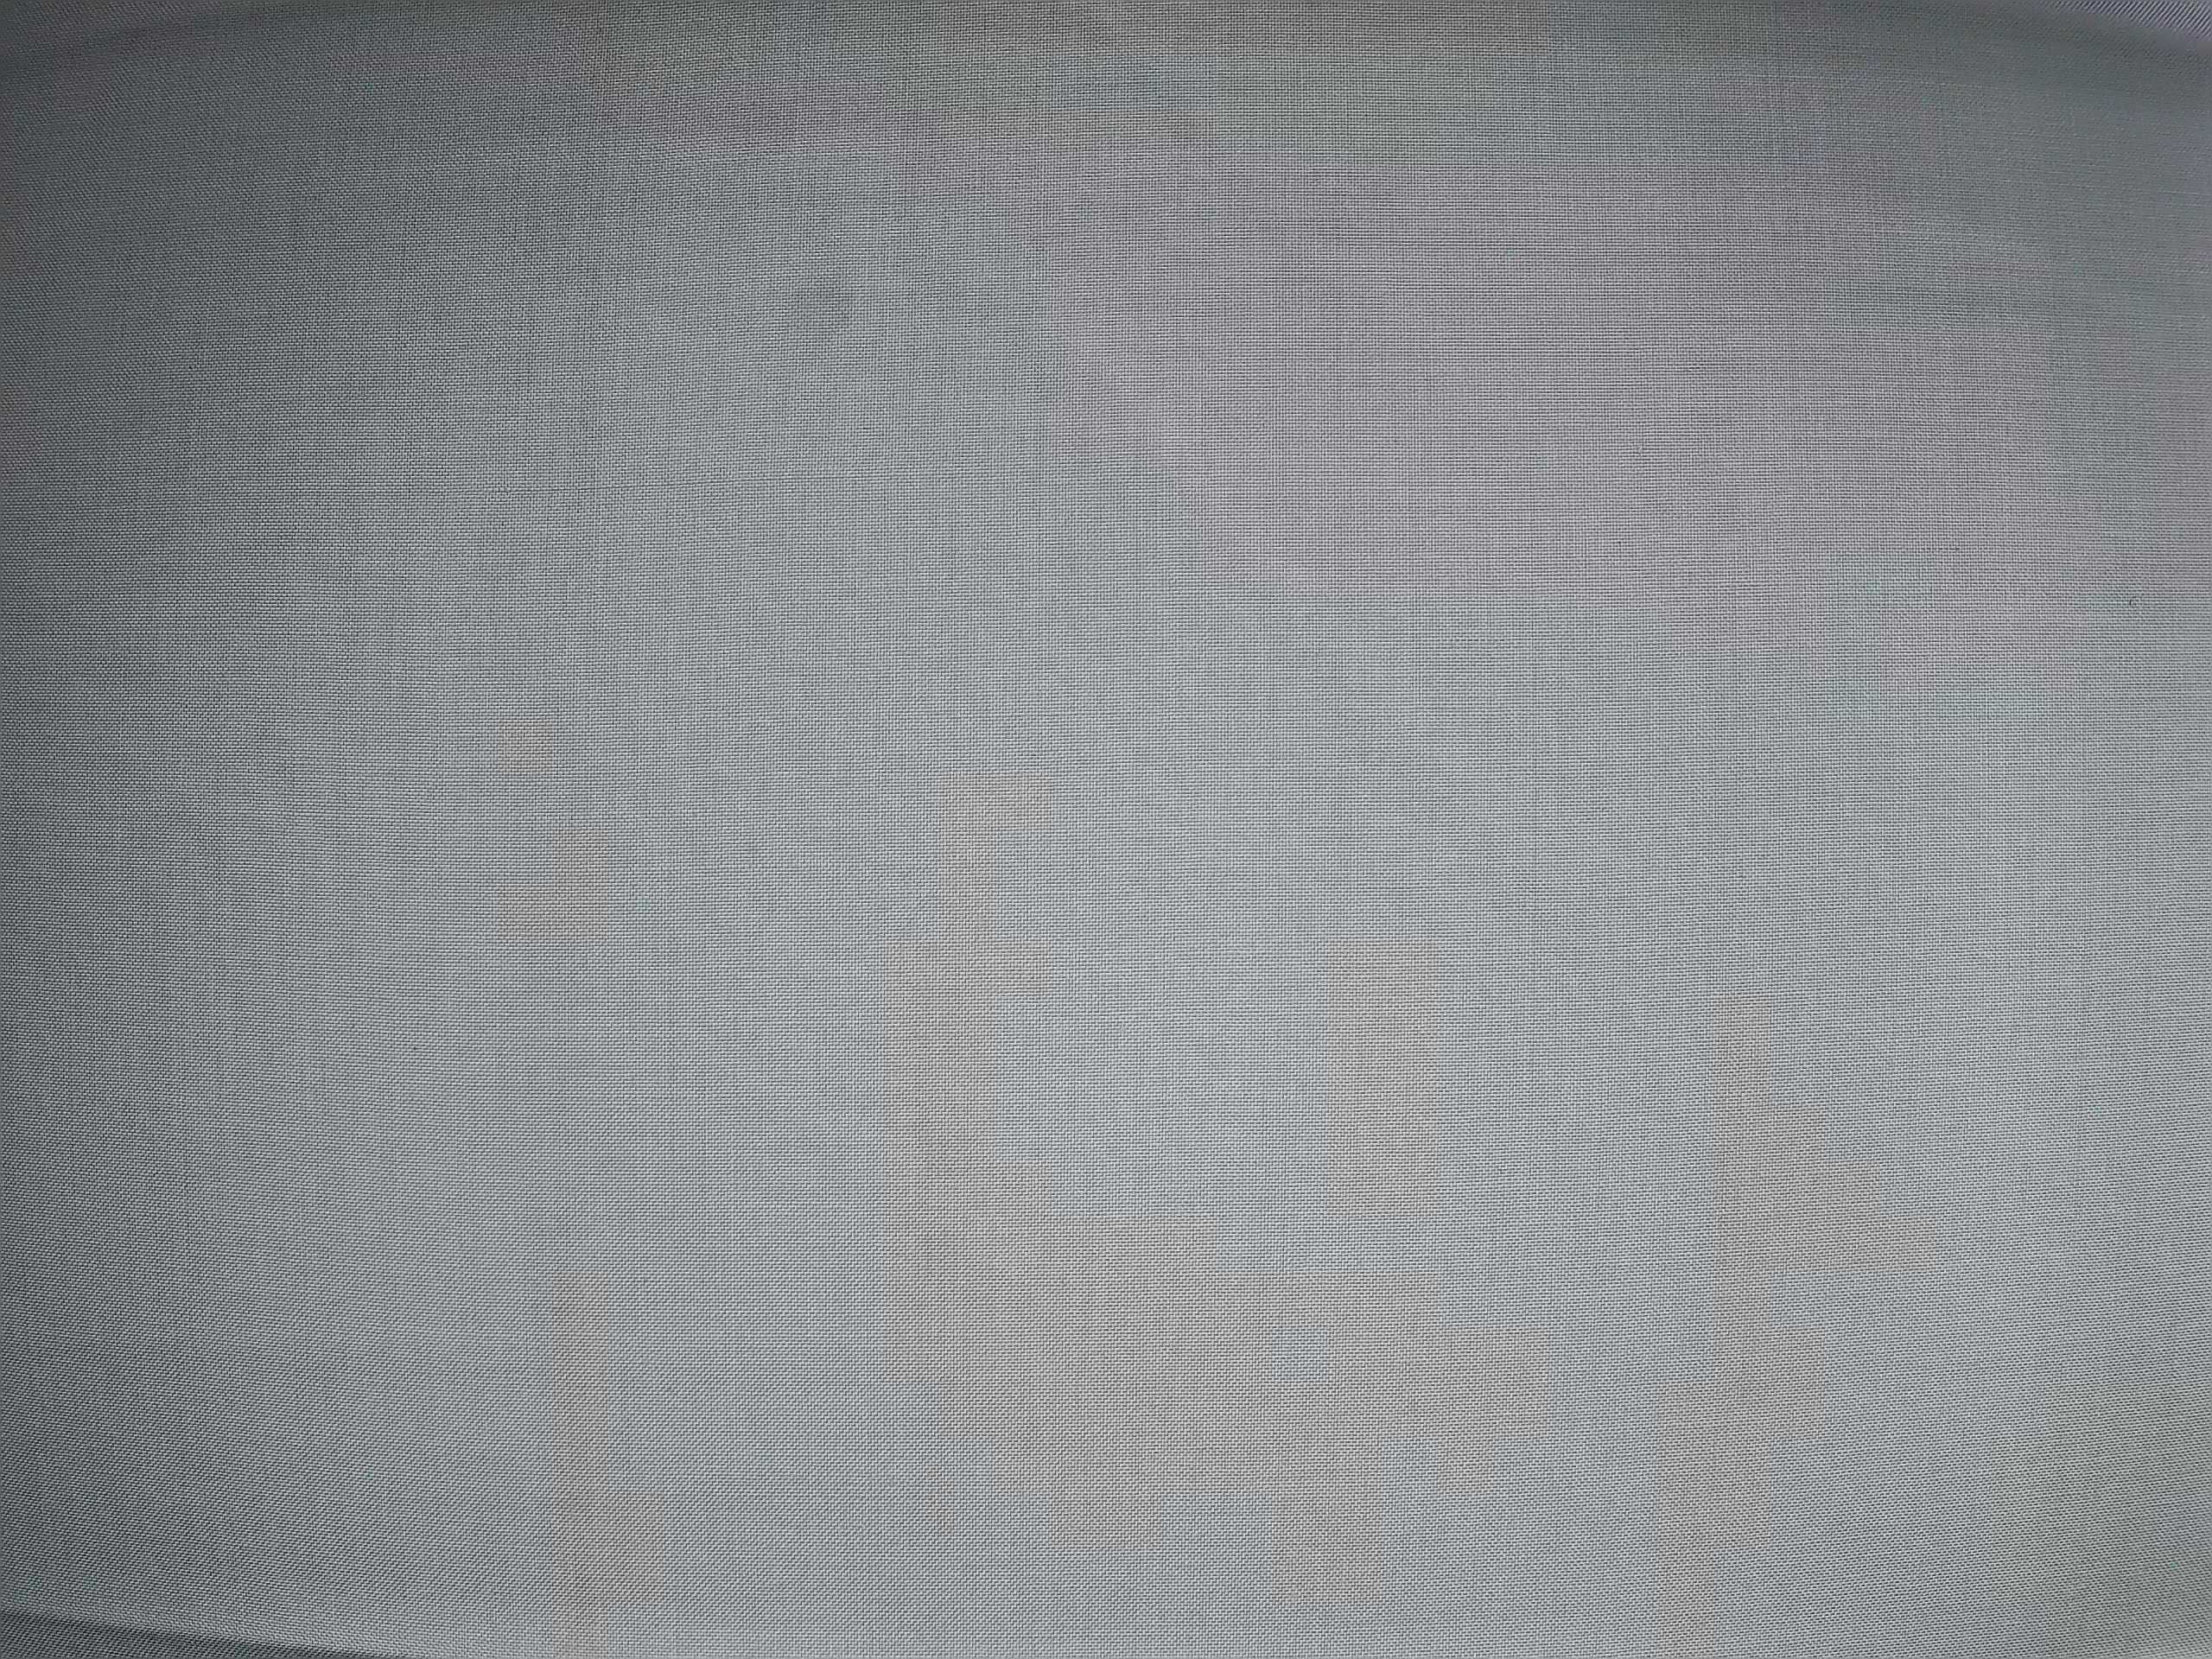others: (871, 1051, 1522, 1486), (1651, 997, 1954, 1539), (496, 1199, 641, 1654), (779, 270, 864, 354)
